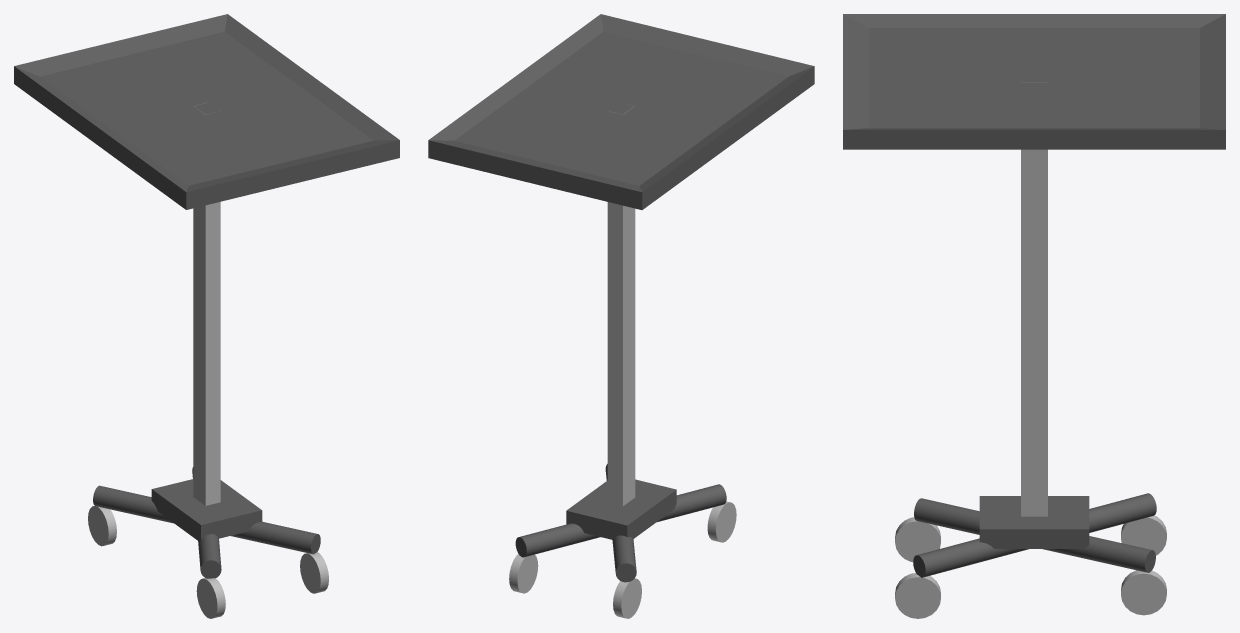
The model's file is Tray_Model.fbx.
3 renders of one model, left to right at view 1: azimuth 30°, elevation 25°; view 2: azimuth 150°, elevation 25°; view 3: azimuth 270°, elevation 25°, orthographic. The views are drawn at different scales.
Visible parts, largest first — view 1: Tray; view 2: Tray; view 3: Tray.
Boxes of the visible parts, x1,y1,x2,y2 form: Tray: [14, 14, 399, 618]; Tray: [428, 14, 814, 618]; Tray: [843, 14, 1225, 618].
Bounding box in the file's own units: 0.4156 × 0.8611 × 0.5802.
1 material, 1 textured.
